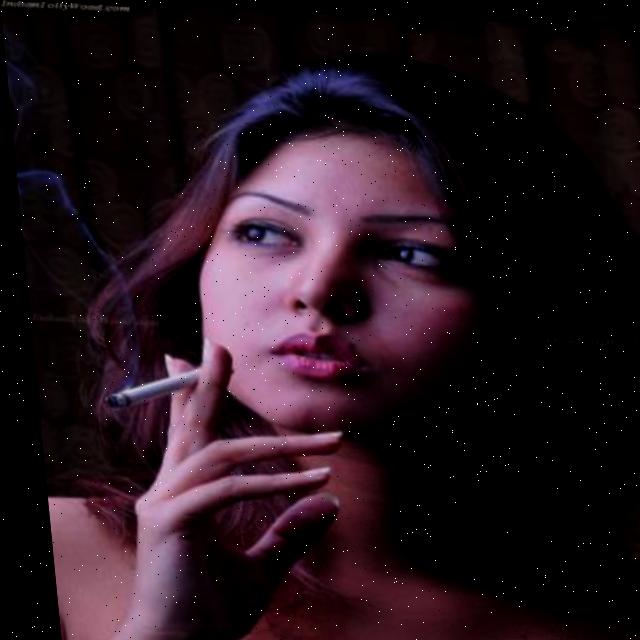cigarette: (98, 360, 210, 414)
